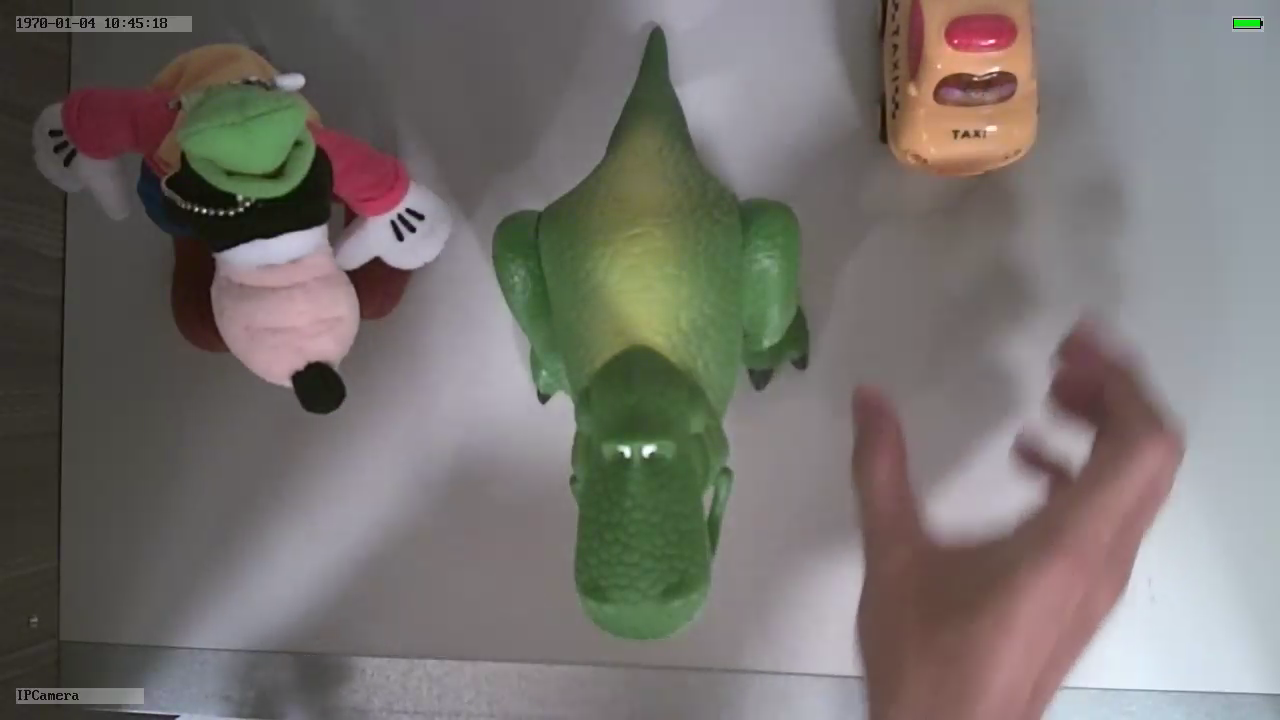goofy: (26, 39, 456, 418)
